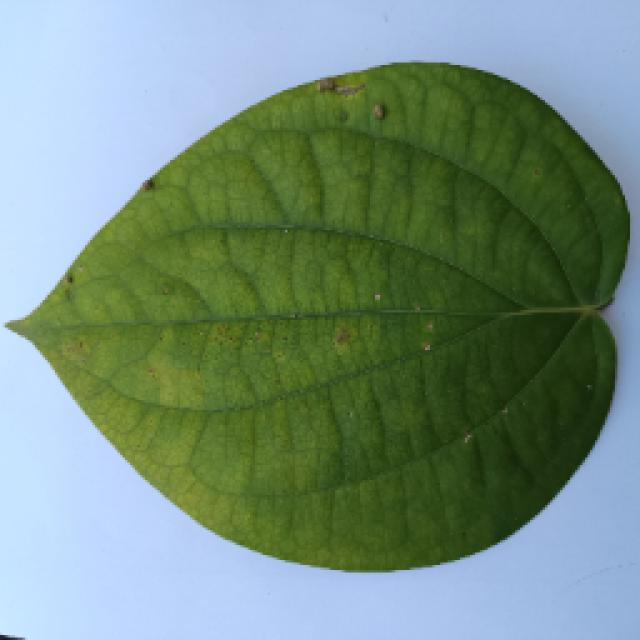slow-decline: (0, 72, 622, 635)
